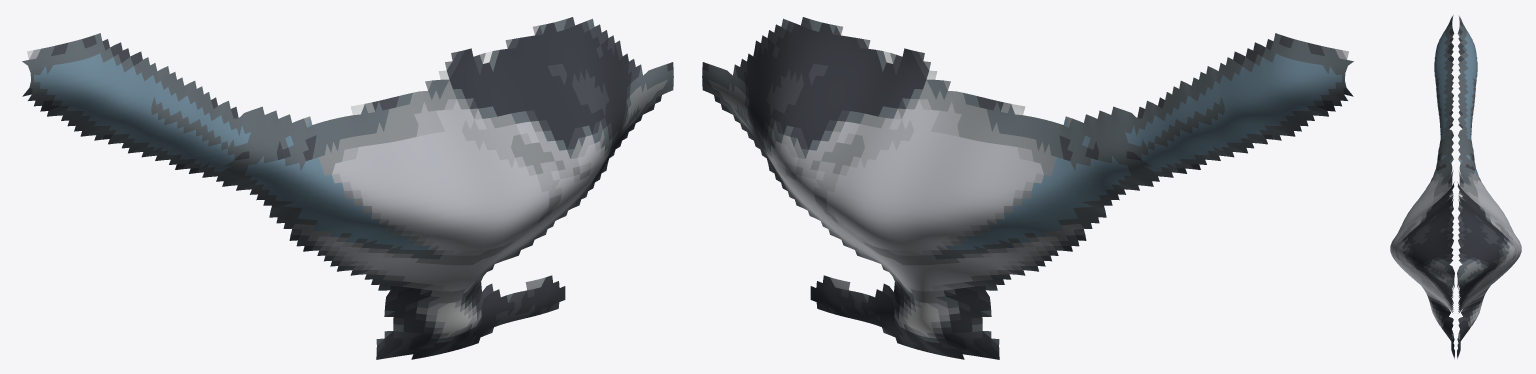
File: jakdangchi.glb
3 renders of one model, left to right at view 1: azimuth 30°, elevation 25°; view 2: azimuth 150°, elevation 25°; view 3: azimuth 270°, elevation 25°, orthographic. The views are drawn at different scales.
Parts seen in each view (by area): view 1: jakdangchi; view 2: jakdangchi; view 3: jakdangchi.
Boxes of the visible parts, left/top/right/bottom form: jakdangchi: left=22, top=17, right=673, bottom=359; jakdangchi: left=702, top=17, right=1353, bottom=359; jakdangchi: left=1390, top=15, right=1521, bottom=358.
Bounding box in the file's own units: 568 × 334 × 185.
